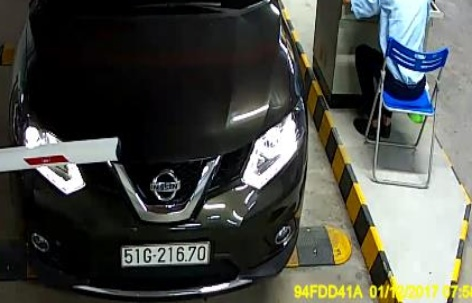plate: (121, 240, 213, 267)
